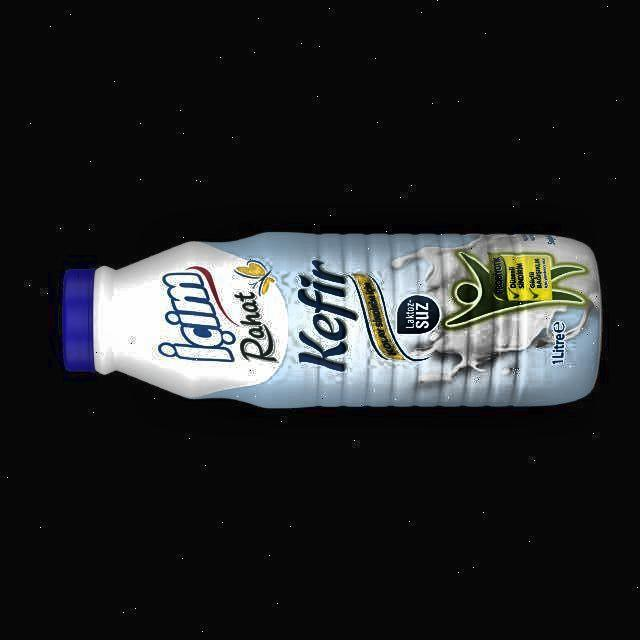plastic: (62, 232, 601, 408)
